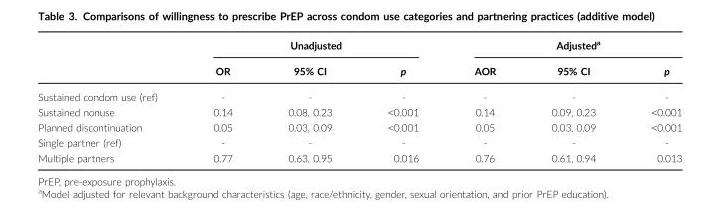table: (37, 37, 681, 162)
table column: (37, 37, 184, 162), (259, 37, 359, 162), (523, 37, 622, 162), (359, 37, 445, 162), (445, 37, 523, 162), (184, 37, 259, 162), (622, 37, 681, 162)
table column header: (37, 37, 681, 83)
table row: (37, 57, 681, 83), (37, 83, 681, 104), (37, 37, 681, 57), (37, 104, 681, 119), (37, 119, 681, 134), (37, 134, 681, 149), (37, 149, 681, 162)
table spanning cell: (184, 37, 445, 57), (445, 37, 681, 57)
